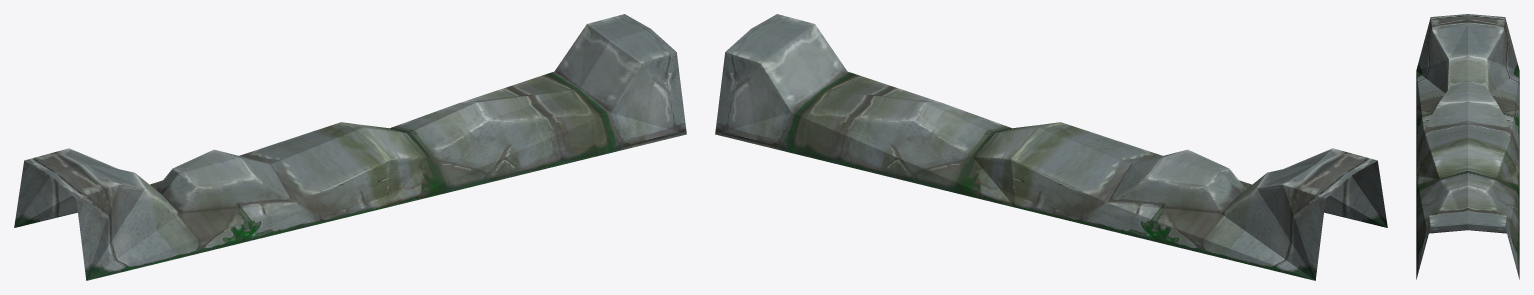
The model's file is stemple_cap_secret_01.fbx.
3 renders of one model, left to right at view 1: azimuth 30°, elevation 25°; view 2: azimuth 150°, elevation 25°; view 3: azimuth 270°, elevation 25°, orthographic. The views are drawn at different scales.
Parts seen in each view (by area): view 1: obj0.424; view 2: obj0.424; view 3: obj0.424.
Part boxes in pixels (x1,y1,x2,y2): obj0.424: (14, 14, 686, 280); obj0.424: (715, 14, 1387, 280); obj0.424: (1416, 14, 1519, 279).
Bounding box in the file's own units: 4 × 0.5245 × 0.8328.
